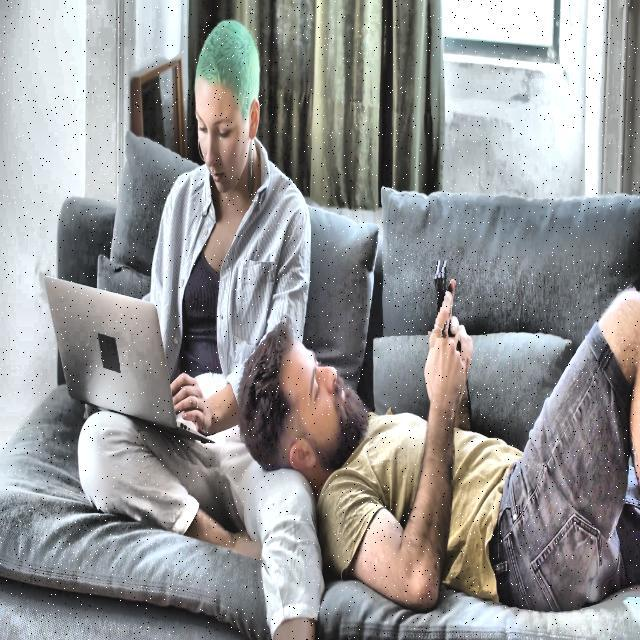Phone: (431, 258, 456, 338)
